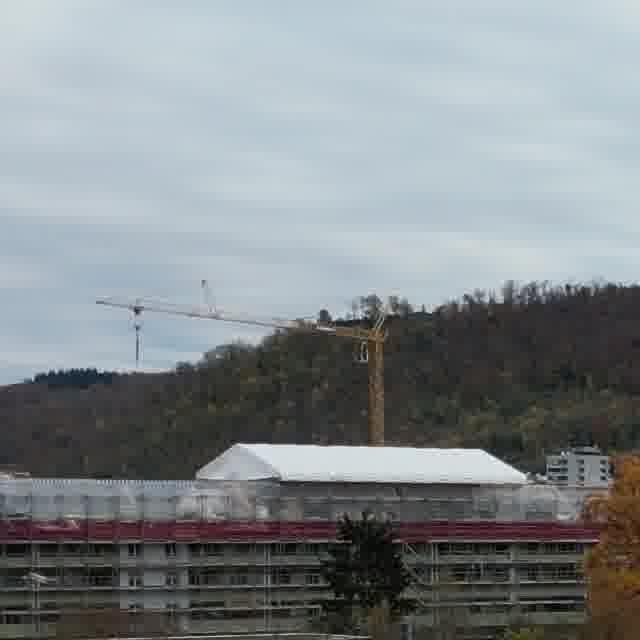Drohne: (24, 573, 48, 583)
